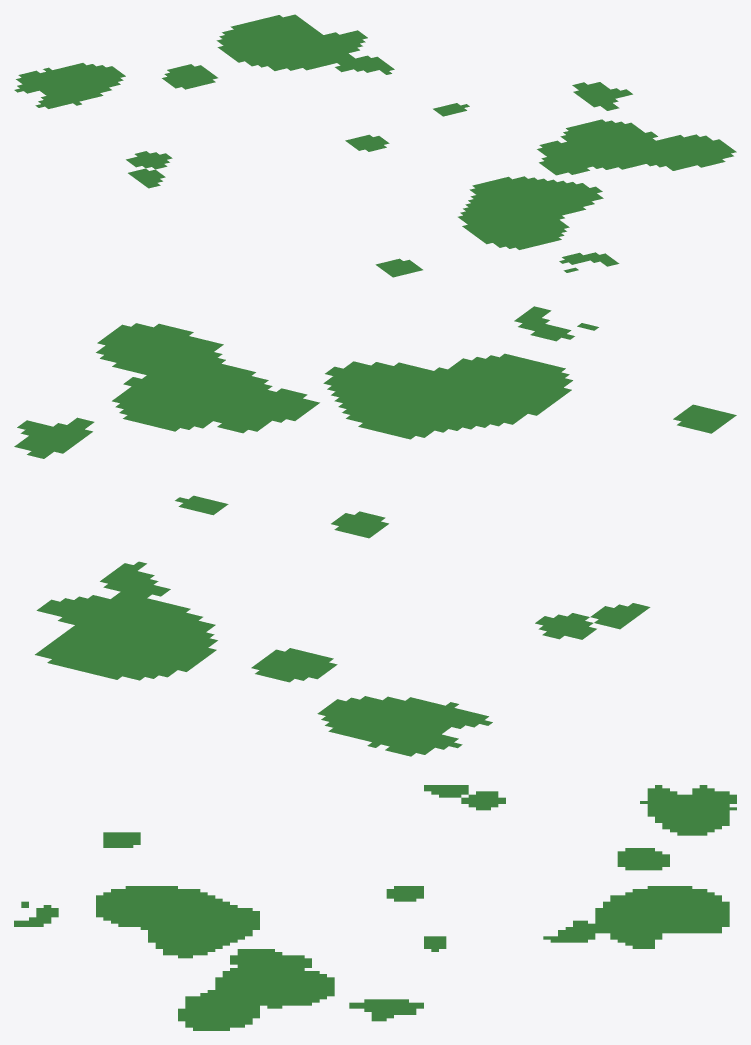
File: Isl-flat3-TreesArea.fbx
The picture shows the model from 3 angles, top to bottom: view 1: azimuth 30°, elevation 25°; view 2: azimuth 150°, elevation 25°; view 3: azimuth 270°, elevation 25°; orthographic projection. The views are drawn at different scales.
Visible parts, largest first — view 1: Isl-flat3-TreesArea; view 2: Isl-flat3-TreesArea; view 3: Isl-flat3-TreesArea.
Boxes of the visible parts, x1,y1,x2,y2 form: Isl-flat3-TreesArea: [14, 14, 736, 277]; Isl-flat3-TreesArea: [14, 306, 736, 756]; Isl-flat3-TreesArea: [14, 785, 736, 1030].
Bounding box in the file's own units: 78 × 0 × 97.
